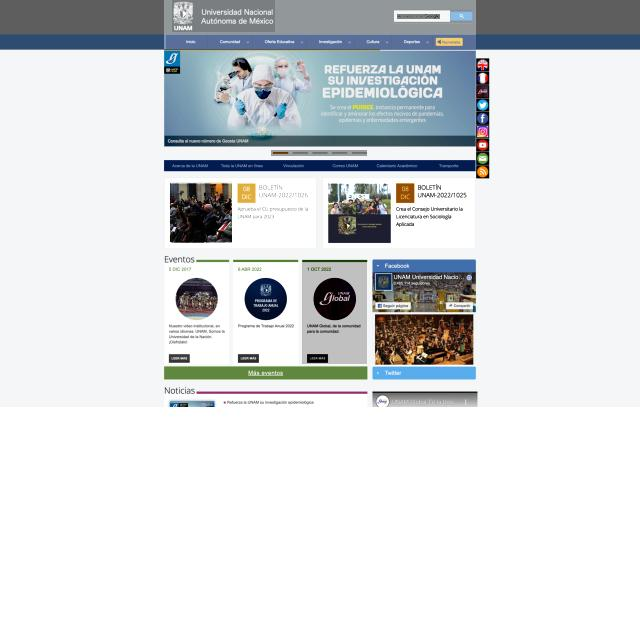CheckedTextView: (394, 10, 450, 22)
Spinner: (323, 177, 476, 248), (165, 178, 316, 248), (233, 259, 299, 366), (302, 260, 367, 364), (451, 12, 473, 20)
bag: (164, 0, 476, 49)
card: (164, 50, 476, 146)
copy: (170, 182, 232, 242), (329, 183, 391, 243)
date picker: (172, 0, 275, 32)
decoration: (165, 35, 476, 49), (164, 160, 475, 171)
dropdown: (271, 150, 367, 156)
footer: (397, 14, 440, 19)
